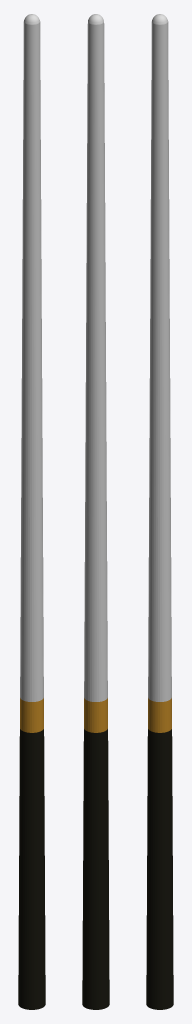
File: cue.fbx
The picture shows the model from 3 angles, left to right: view 1: azimuth 90°, elevation 25°; view 2: azimuth 150°, elevation 25°; view 3: azimuth 270°, elevation 25°; orthographic projection.
Parts seen in each view (by area): view 1: 柱体; view 2: 柱体; view 3: 柱体.
Boxes of the visible parts, x1,y1,x2,y2 form: 柱体: (18,14,45,1009); 柱体: (82,14,109,1009); 柱体: (146,14,173,1009).
Bounding box in the file's own units: 5.02 × 200 × 5.02.
